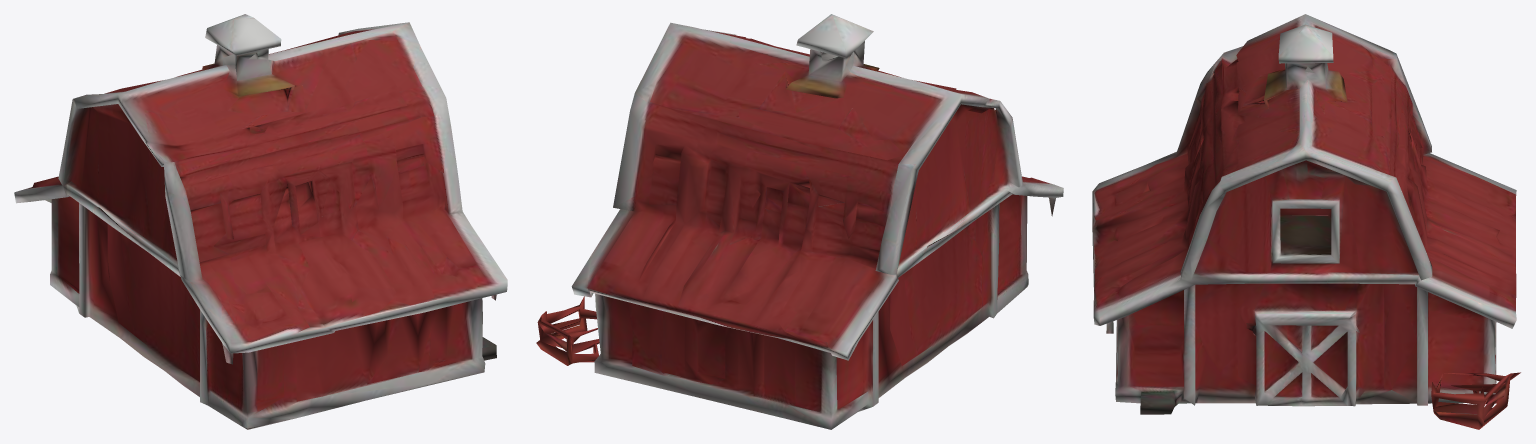
File: barn.glb
3 renders of one model, left to right at view 1: azimuth 30°, elevation 25°; view 2: azimuth 150°, elevation 25°; view 3: azimuth 270°, elevation 25°, orthographic. The views are drawn at different scales.
Parts seen in each view (by area): view 1: tripo_node_f0ada219-ad66-4544-a572-2ea2724f15ed; view 2: tripo_node_f0ada219-ad66-4544-a572-2ea2724f15ed; view 3: tripo_node_f0ada219-ad66-4544-a572-2ea2724f15ed.
Boxes of the visible parts, x1,y1,x2,y2 form: tripo_node_f0ada219-ad66-4544-a572-2ea2724f15ed: (14,14,507,429); tripo_node_f0ada219-ad66-4544-a572-2ea2724f15ed: (536,14,1063,429); tripo_node_f0ada219-ad66-4544-a572-2ea2724f15ed: (1092,14,1520,429).
Size of the model in its own units: 0.8649 by 0.7951 by 1.
Materials: 1 (1 with a texture image).
